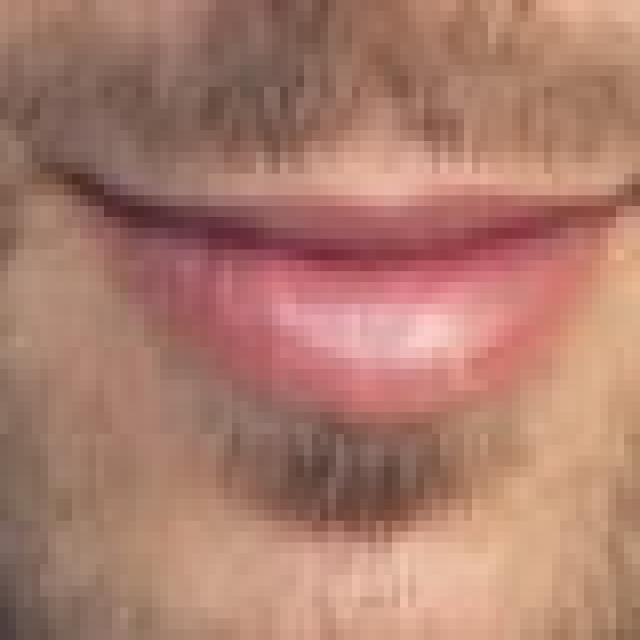closed-mouth: (32, 130, 632, 423)
